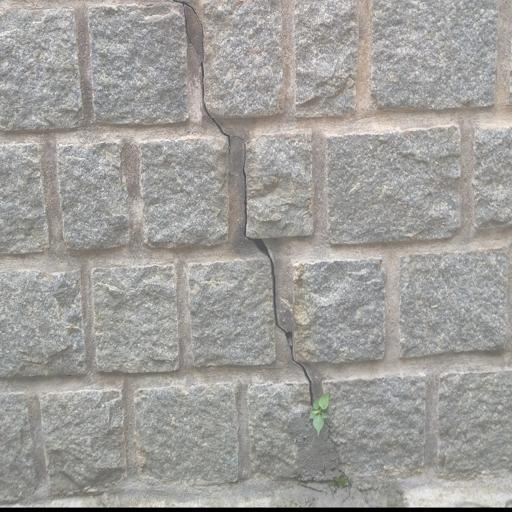major_crack: (162, 0, 334, 435)
